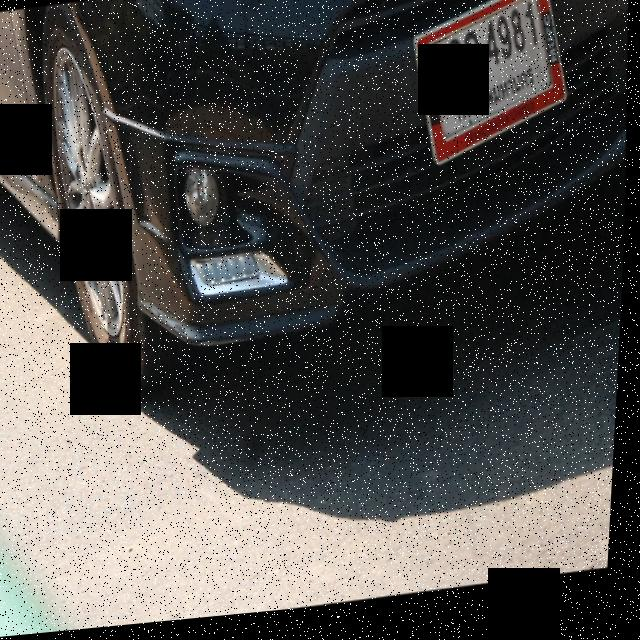text: (432, 6, 552, 149)
